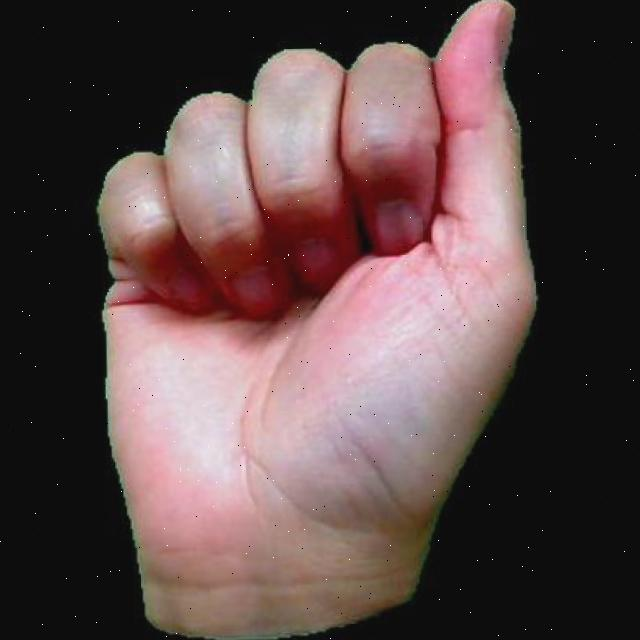a: (68, 0, 553, 640)
